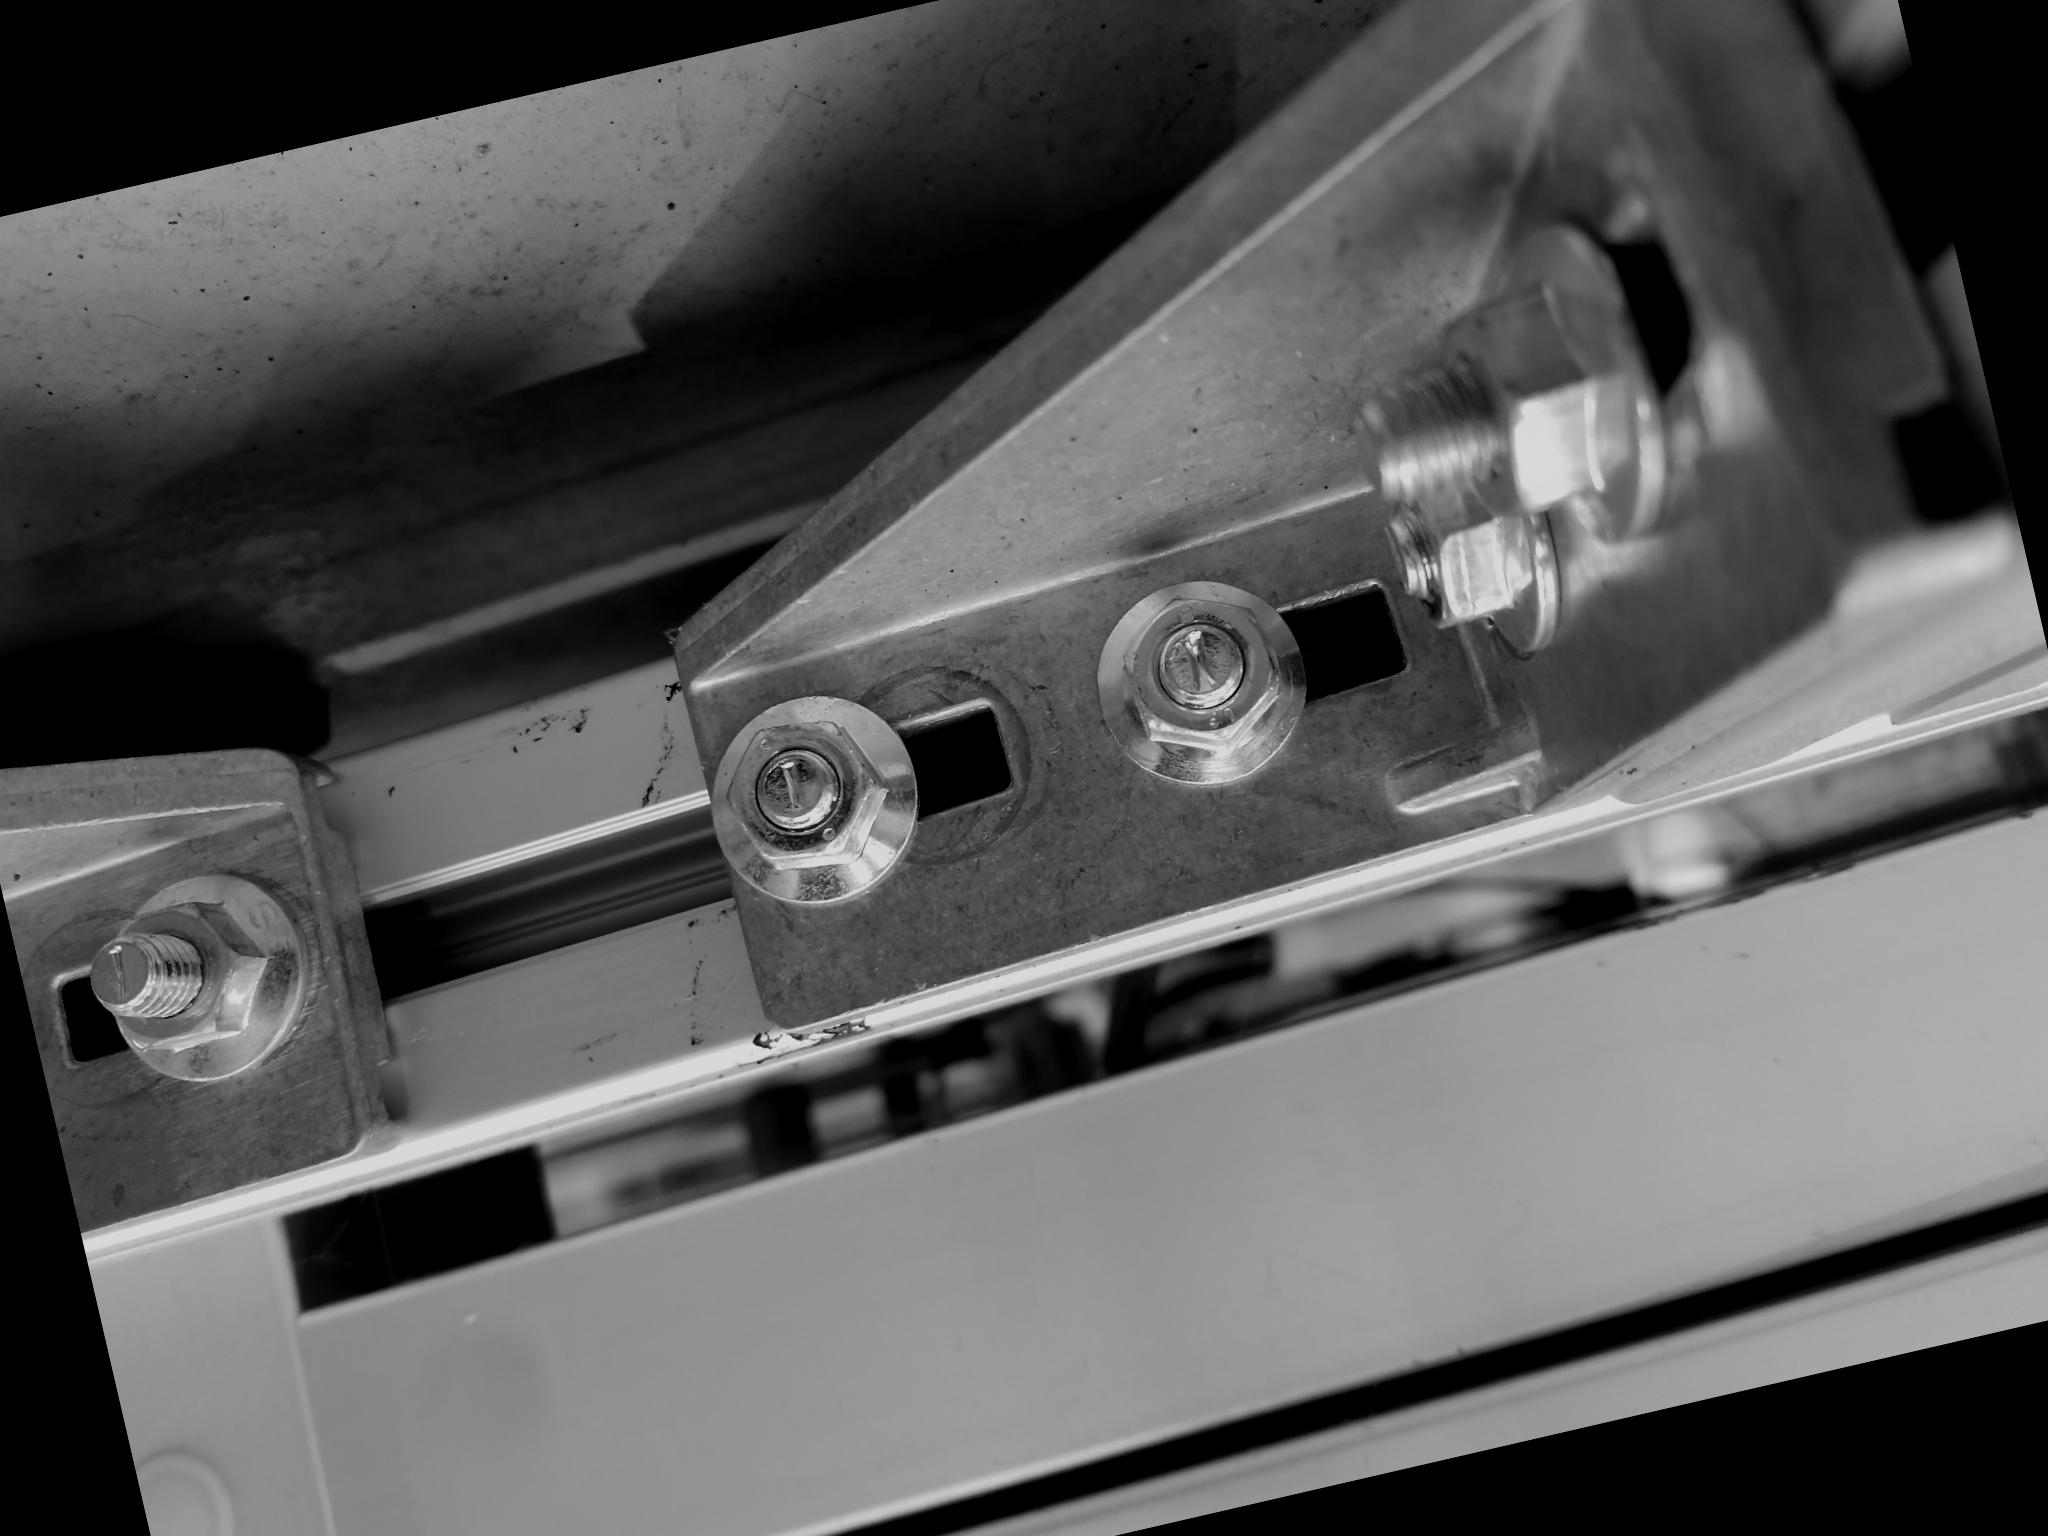hexagonal: (68, 845, 332, 1104), (1069, 553, 1330, 803), (684, 674, 943, 920)
